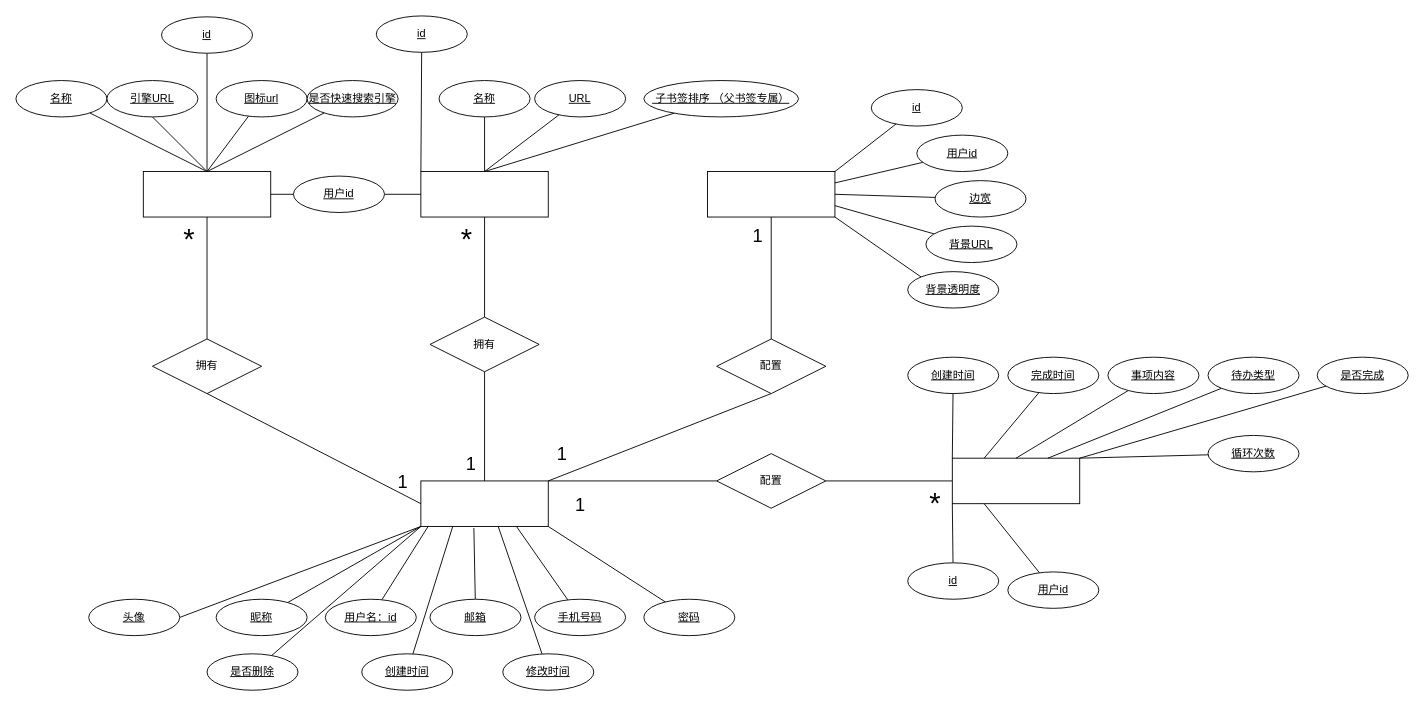
Image size: 1424x706. Some labels were removed from this diagram. The shapes that lost their labels are listed below. From the top down, each one's centre as x and y in pixels, then its label:
point 206,194: 搜索引擎
point 484,194: 书签
point 771,194: 页面参数
point 1015,480: 待办事项
point 484,503: 用户
